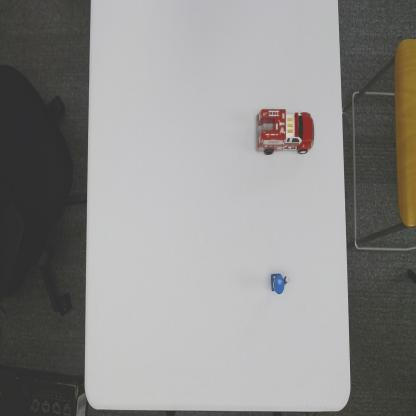Firetruck: (254, 106, 316, 158)
